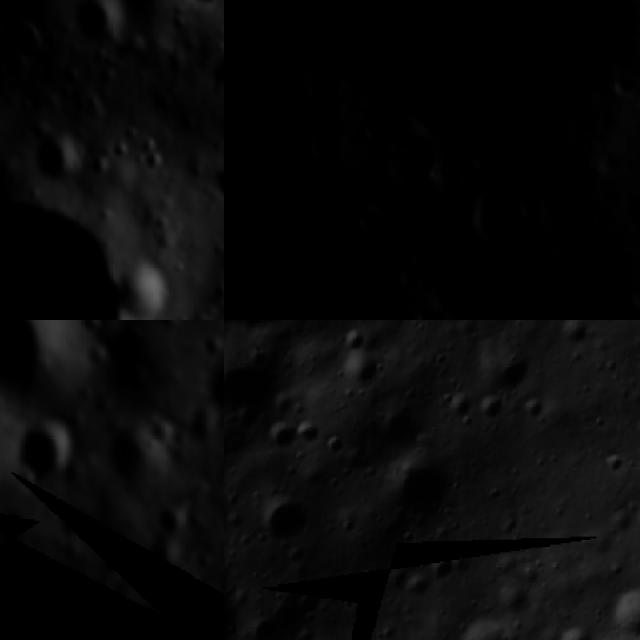crater: (0, 209, 129, 320), (376, 445, 465, 532), (10, 415, 81, 503), (250, 478, 324, 556), (0, 320, 71, 398), (364, 392, 431, 454), (474, 177, 532, 245), (101, 422, 158, 486), (478, 340, 538, 398), (29, 134, 89, 185), (76, 0, 122, 57), (333, 349, 386, 397), (599, 578, 640, 640), (447, 607, 519, 640), (434, 384, 479, 434), (392, 562, 438, 610), (290, 582, 334, 627), (260, 414, 304, 456), (152, 494, 192, 540), (201, 353, 224, 430), (235, 608, 289, 640), (424, 542, 464, 584), (551, 320, 596, 354), (544, 614, 600, 640), (473, 387, 511, 425), (348, 201, 388, 235), (55, 509, 88, 544), (97, 552, 133, 584), (339, 325, 371, 358), (206, 164, 224, 209), (58, 624, 103, 640), (18, 580, 44, 606), (192, 548, 215, 574), (178, 0, 224, 10), (184, 566, 202, 590), (503, 631, 540, 640), (0, 173, 7, 216)
